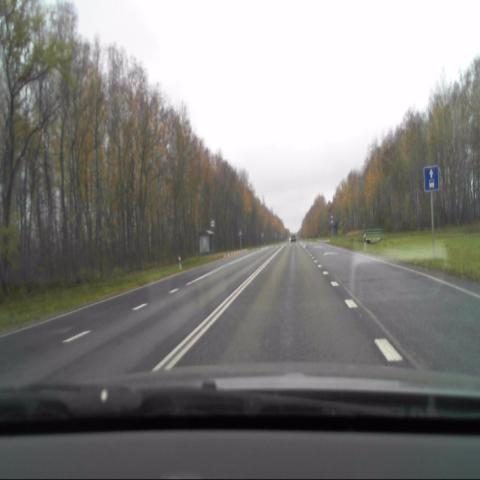5_14: (423, 165, 440, 192)
